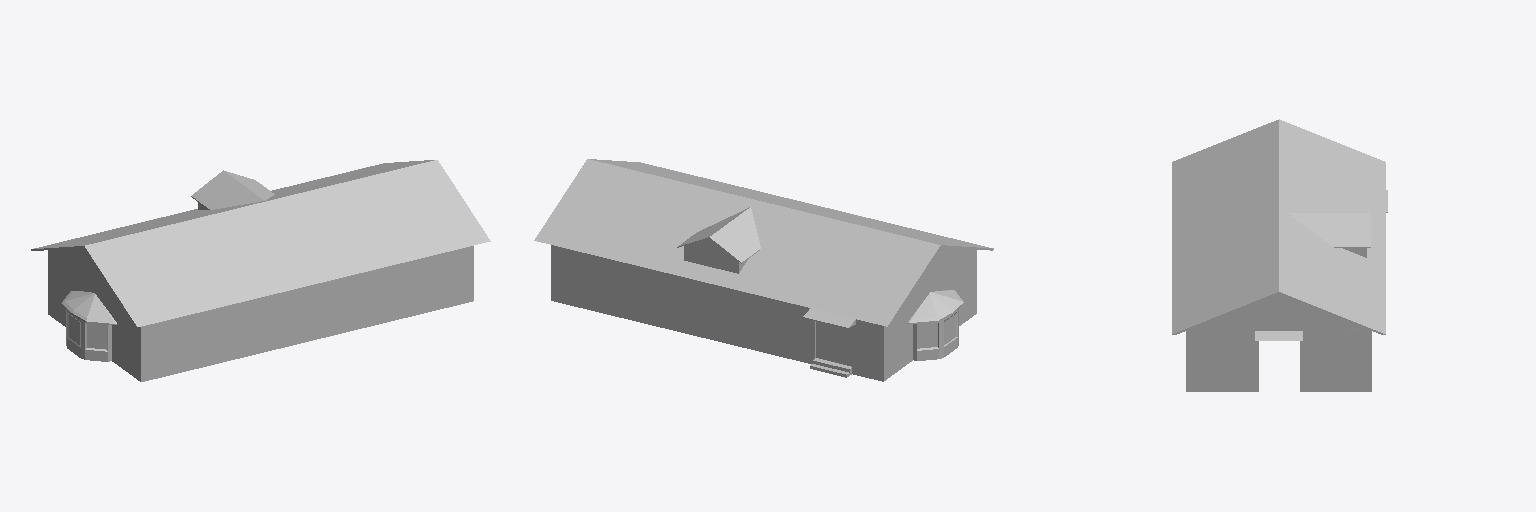
Rendered from InSideHouse.obj.
3 renders of one model, left to right at view 1: azimuth 30°, elevation 25°; view 2: azimuth 150°, elevation 25°; view 3: azimuth 270°, elevation 25°, orthographic.
Visible parts, largest first — view 1: Cube; view 2: Cube; view 3: Cube.
Boxes of the visible parts, <box> form: Cube: <box>31,160,490,381</box>; Cube: <box>534,159,993,381</box>; Cube: <box>1172,119,1387,391</box>.
Size of the model in its own units: 33.72 by 9.16 by 17.02.